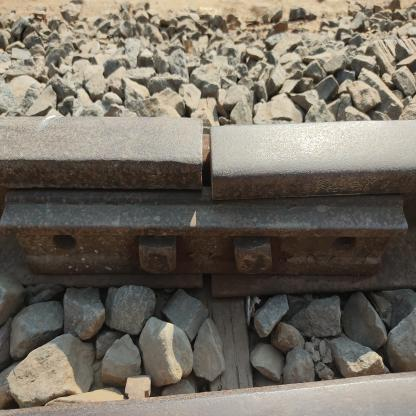Defective: (1, 199, 413, 313), (174, 104, 252, 204)
